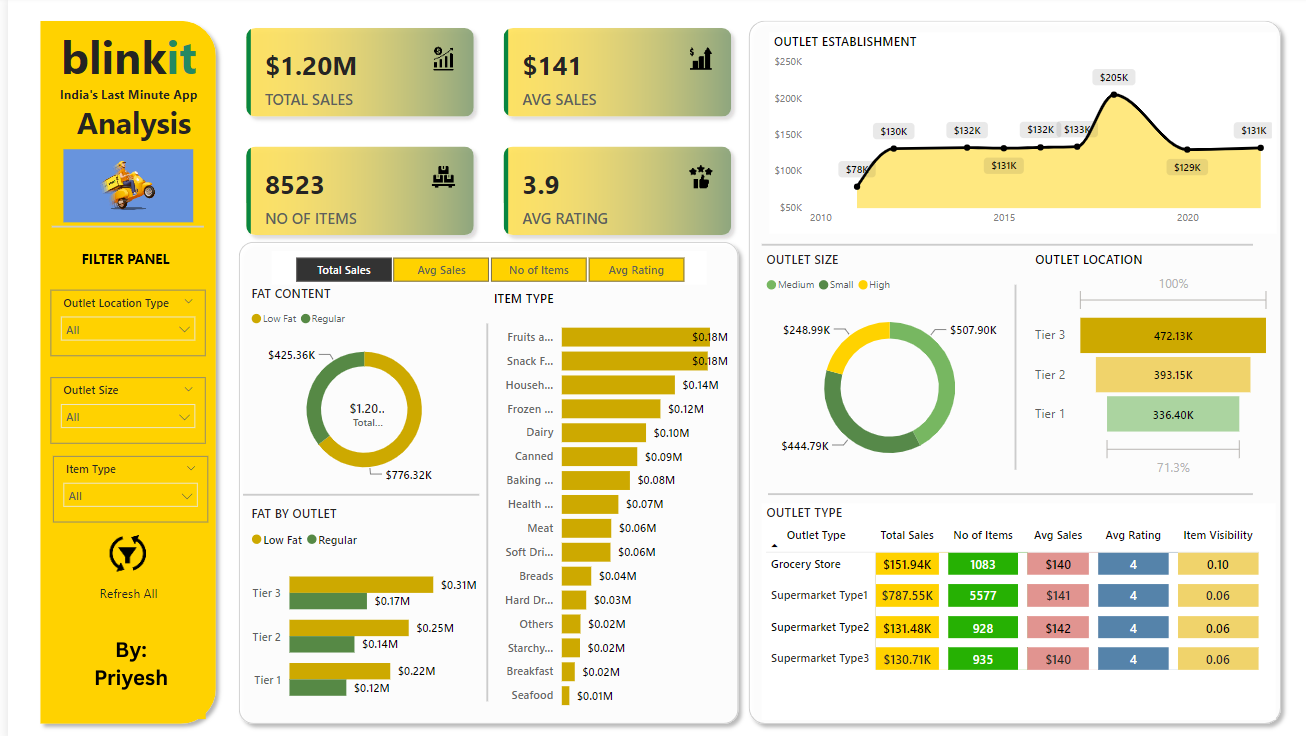

This screenshot's page, from the dashboard's own definition file:
{"tool":"powerbi","page":{"name":"Page 1","canvas":[1400,800],"ordinal":0},"visuals":[{"type":"shape","box":[25.5,17.4,206.4,772.1],"z":0},{"type":"textbox","box":[37.5,26.8,183.6,97.9],"z":1000},{"type":"textbox","box":[40.2,108.6,181,53.6],"z":2000},{"type":"cardVisual","fields":{"Data":["BlinkIT Grocery Data.Total Sales","BlinkIT Grocery Data.Avg Sales","BlinkIT Grocery Data.No of Items","BlinkIT Grocery Data.Avg Rating"]},"box":[238.7,17.3,554.1,256],"z":3000},{"type":"shape","box":[238.6,254.7,553.6,534.9],"z":4000},{"type":"slicer","fields":{"Values":["Metrics.Metrics"]},"box":[283.2,273.3,466.3,35.9],"z":5000},{"type":"donutChart","title":"FAT CONTENT","fields":{"Y":["BlinkIT Grocery Data.Total Sales"],"Category":["BlinkIT Grocery Data.Item Fat Content"]},"box":[256,309.2,252.3,222.6],"z":6000},{"type":"cardVisual","fields":{"Data":["BlinkIT Grocery Data.Total Sales"]},"box":[342.6,415.6,77.9,56.9],"z":7000},{"type":"clusteredBarChart","title":"FAT BY OUTLET","fields":{"Y":["BlinkIT Grocery Data.Total Sales"],"Category":["BlinkIT Grocery Data.Outlet Location Type"],"Series":["BlinkIT Grocery Data.Item Fat Content"]},"box":[256,545.6,252,230.6],"z":8000},{"type":"shape","box":[46.9,239.9,163.5,14.7],"z":9000},{"type":"shape","box":[477.3,351.2,73.5,405.2],"z":10000},{"type":"barChart","title":"ITEM TYPE","fields":{"Y":["BlinkIT Grocery Data.Total Sales"],"Category":["BlinkIT Grocery Data.Item Type"]},"box":[516.1,315,261.4,461.1],"z":11000},{"type":"shape","box":[785.5,17.4,588.5,772.1],"z":12000},{"type":"lineChart","title":"OUTLET ESTABLISHMENT","fields":{"Category":["BlinkIT Grocery Data.Outlet Establishment Year"],"Y":["BlinkIT Grocery Data.Total Sales"]},"box":[816.4,38.9,544.2,215.8],"z":13000},{"type":"shape","box":[808.3,260.1,526.8,13.4],"z":14000},{"type":"donutChart","title":"OUTLET SIZE","fields":{"Y":["BlinkIT Grocery Data.Total Sales"],"Category":["BlinkIT Grocery Data.Outlet Size"]},"box":[808.3,273.5,274.8,248],"z":15000},{"type":"shape","box":[1072.4,309.7,16.1,198.4],"z":16000},{"type":"funnel","title":"OUTLET LOCATION","fields":{"Y":["Sum(BlinkIT Grocery Data.Sales)"],"Category":["BlinkIT Grocery Data.Outlet Location Type"]},"box":[1096.5,273.5,262.7,248],"z":17000},{"type":"shape","box":[815,524.1,520.1,20.1],"z":18000},{"type":"pivotTable","title":"OUTLET TYPE","fields":{"Values":["BlinkIT Grocery Data.Total Sales","BlinkIT Grocery Data.No of Items","BlinkIT Grocery Data.Avg Sales","BlinkIT Grocery Data.Avg Rating","Avg(BlinkIT Grocery Data.Item Visibility)"],"Rows":["BlinkIT Grocery Data.Outlet Type"]},"box":[808.3,544.2,550.9,231.9],"z":19000},{"type":"slicer","fields":{"Values":["BlinkIT Grocery Data.Outlet Location Type"]},"box":[45.6,315,166.2,71],"z":20000},{"type":"slicer","fields":{"Values":["BlinkIT Grocery Data.Outlet Size"]},"box":[45.6,408.8,166.2,71],"z":21000},{"type":"slicer","fields":{"Values":["BlinkIT Grocery Data.Item Type"]},"box":[48.3,493.3,166.2,71],"z":22000},{"type":"textbox","box":[73.7,266.8,112.6,37.5],"z":23000},{"type":"textbox","box":[49.5,688.9,162,86.6],"z":24000},{"type":"image","box":[88.5,569.7,80.4,56.3],"z":25000},{"type":"textbox","box":[79.1,626,100.5,34.9],"z":26000},{"type":"shape","box":[252,529.5,253.4,10.7],"z":27000},{"type":"image","box":[44.2,159.5,170.2,88.5],"z":28000}]}

Visuals, with their boxes in screenshot pixels (x1, y1, x2, y2), scaled from the page's 1400x800 canvas onto the 1306x736 screenshot:
shape: rect(24, 16, 216, 726)
textbox: rect(35, 25, 206, 115)
textbox: rect(38, 100, 206, 149)
cardVisual - BlinkIT Grocery Data.Total Sales x BlinkIT Grocery Data.Avg Sales: rect(223, 16, 740, 251)
shape: rect(223, 234, 739, 726)
slicer - Metrics.Metrics: rect(264, 251, 699, 284)
"FAT CONTENT" donutChart: rect(239, 284, 474, 489)
cardVisual - BlinkIT Grocery Data.Total Sales: rect(320, 382, 392, 435)
"FAT BY OUTLET" clusteredBarChart: rect(239, 502, 474, 714)
shape: rect(44, 221, 196, 234)
shape: rect(445, 323, 514, 696)
"ITEM TYPE" barChart: rect(481, 290, 725, 714)
shape: rect(733, 16, 1282, 726)
"OUTLET ESTABLISHMENT" lineChart: rect(762, 36, 1269, 234)
shape: rect(754, 239, 1245, 252)
"OUTLET SIZE" donutChart: rect(754, 252, 1010, 480)
shape: rect(1000, 285, 1015, 467)
"OUTLET LOCATION" funnel: rect(1023, 252, 1268, 480)
shape: rect(760, 482, 1245, 501)
"OUTLET TYPE" pivotTable: rect(754, 501, 1268, 714)
slicer - BlinkIT Grocery Data.Outlet Location Type: rect(43, 290, 198, 355)
slicer - BlinkIT Grocery Data.Outlet Size: rect(43, 376, 198, 441)
slicer - BlinkIT Grocery Data.Item Type: rect(45, 454, 200, 519)
textbox: rect(69, 245, 174, 280)
textbox: rect(46, 634, 197, 713)
image: rect(83, 524, 158, 576)
textbox: rect(74, 576, 168, 608)
shape: rect(235, 487, 471, 497)
image: rect(41, 147, 200, 228)
